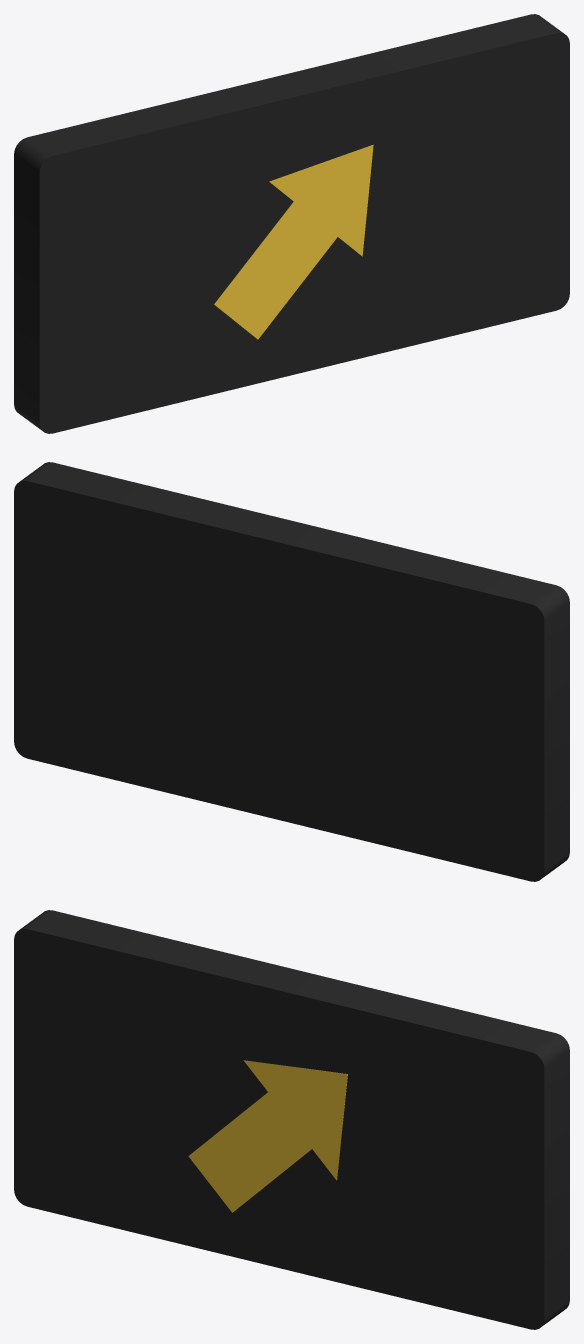
3 views of the same model, one above another, from view 1: azimuth 30°, elevation 25°; view 2: azimuth 150°, elevation 25°; view 3: azimuth 330°, elevation 25° (orthographic).
Visible parts, largest first — view 1: KR43_r00, KR43_s250; view 2: KR43_r00; view 3: KR43_r00, KR43_s250.
Part boxes in pixels (x1,y1,x2,y2): KR43_r00: [14, 14, 569, 433]; KR43_s250: [214, 144, 373, 339]; KR43_r00: [14, 462, 569, 881]; KR43_r00: [14, 910, 569, 1329]; KR43_s250: [188, 1060, 347, 1212].
Size of the model in its own units: 1.2 by 0.6 by 0.1004.
